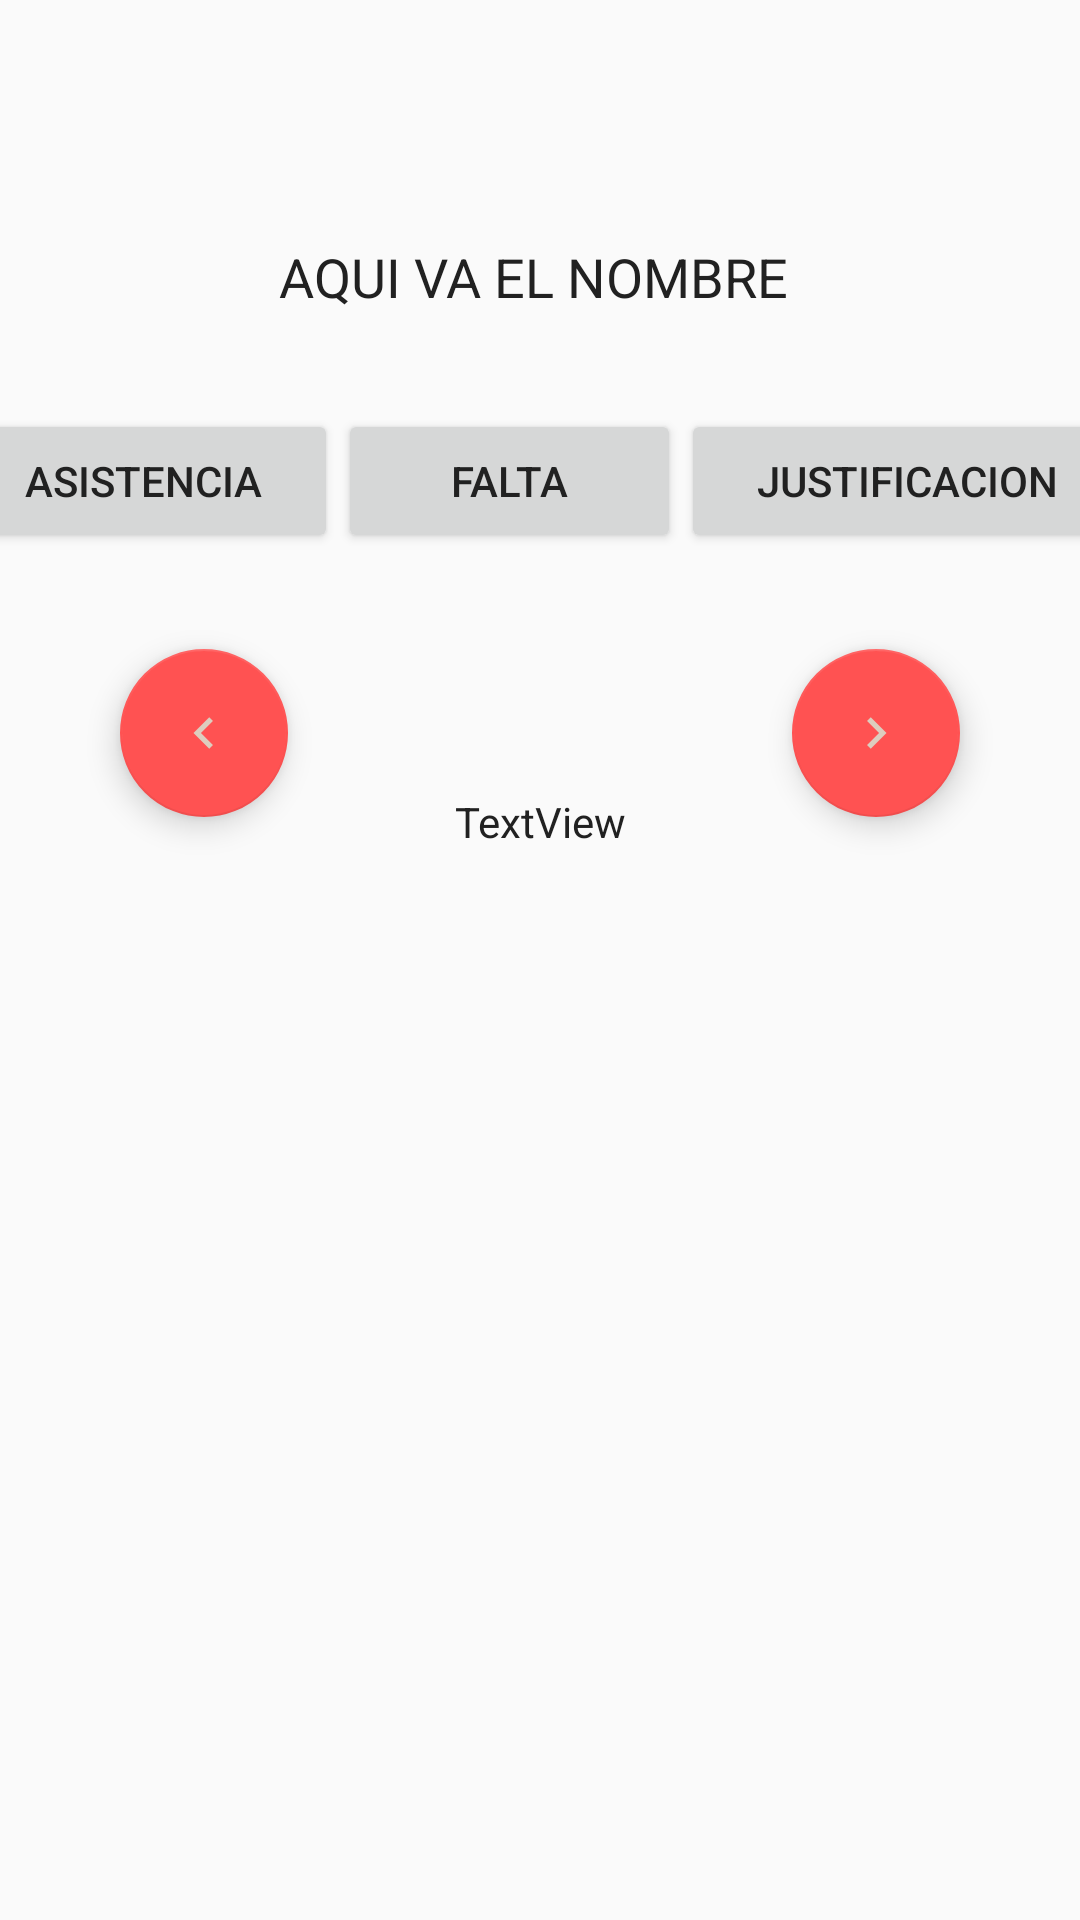

Named icons in this screenshot (1080w x 1920h) and their centers, point (x, y):
derecha: point (876, 733)
izquierda: point (204, 733)
